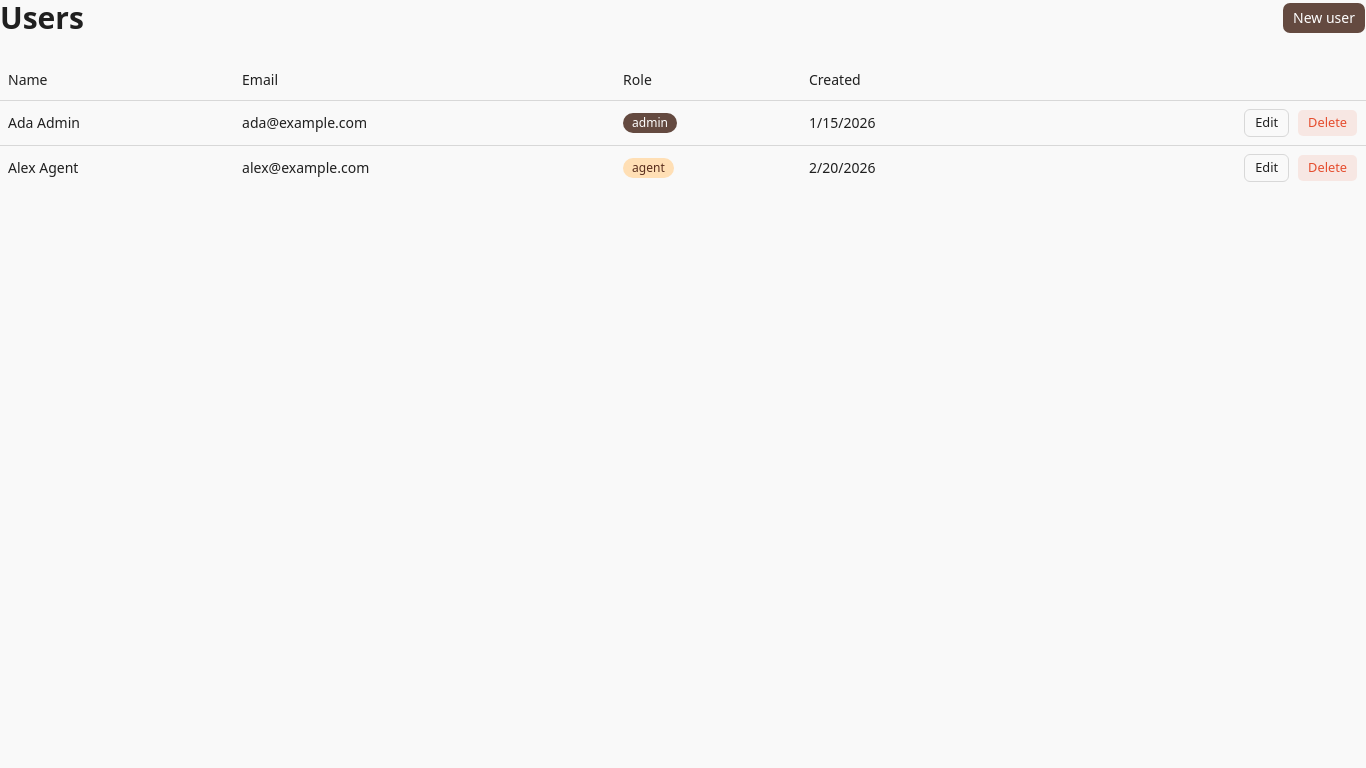
UsersPage › editing a user › prefills the form and patches without a password when left blank
Click the button with aria-label "Edit Alex Agent" at coordinates (1267, 168), box [1244,154,1289,182]
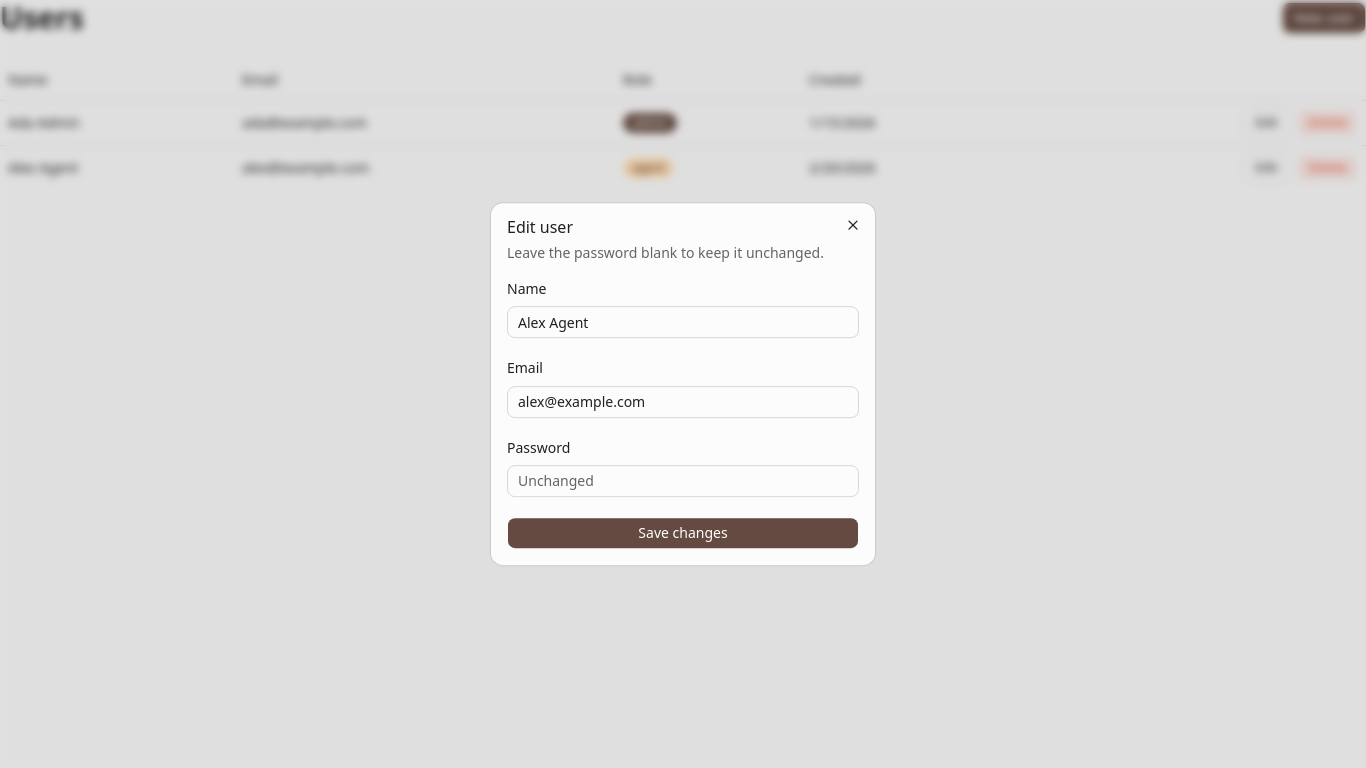
Now the field labelled "Name" holds "Alex Agent"
Now the field labelled "Email" holds "alex@example.com", box [507,386,859,418]
Replace the text in the field labelled "Name" with "Alexander" at coordinates (683, 322), box [507,306,859,338]
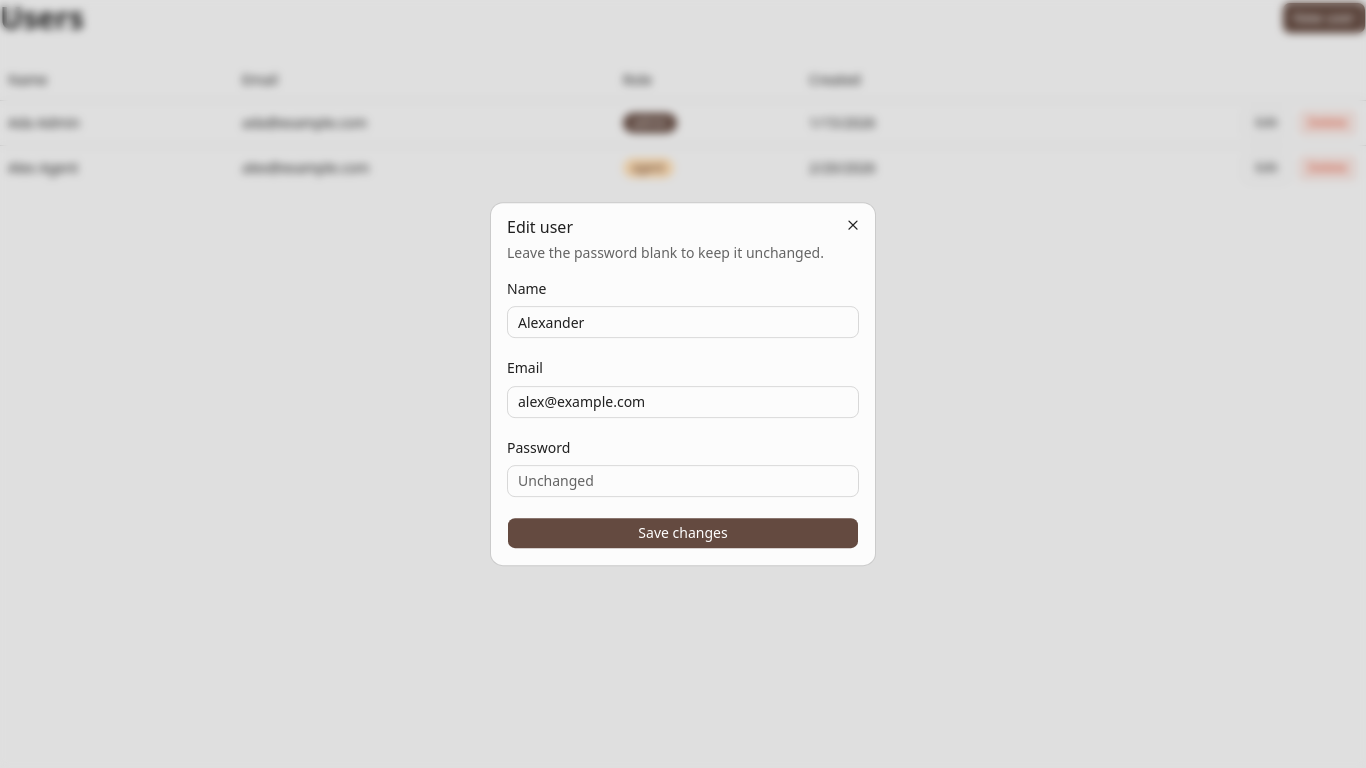
Click the button "Save changes" at coordinates (683, 533), box [507,517,859,549]
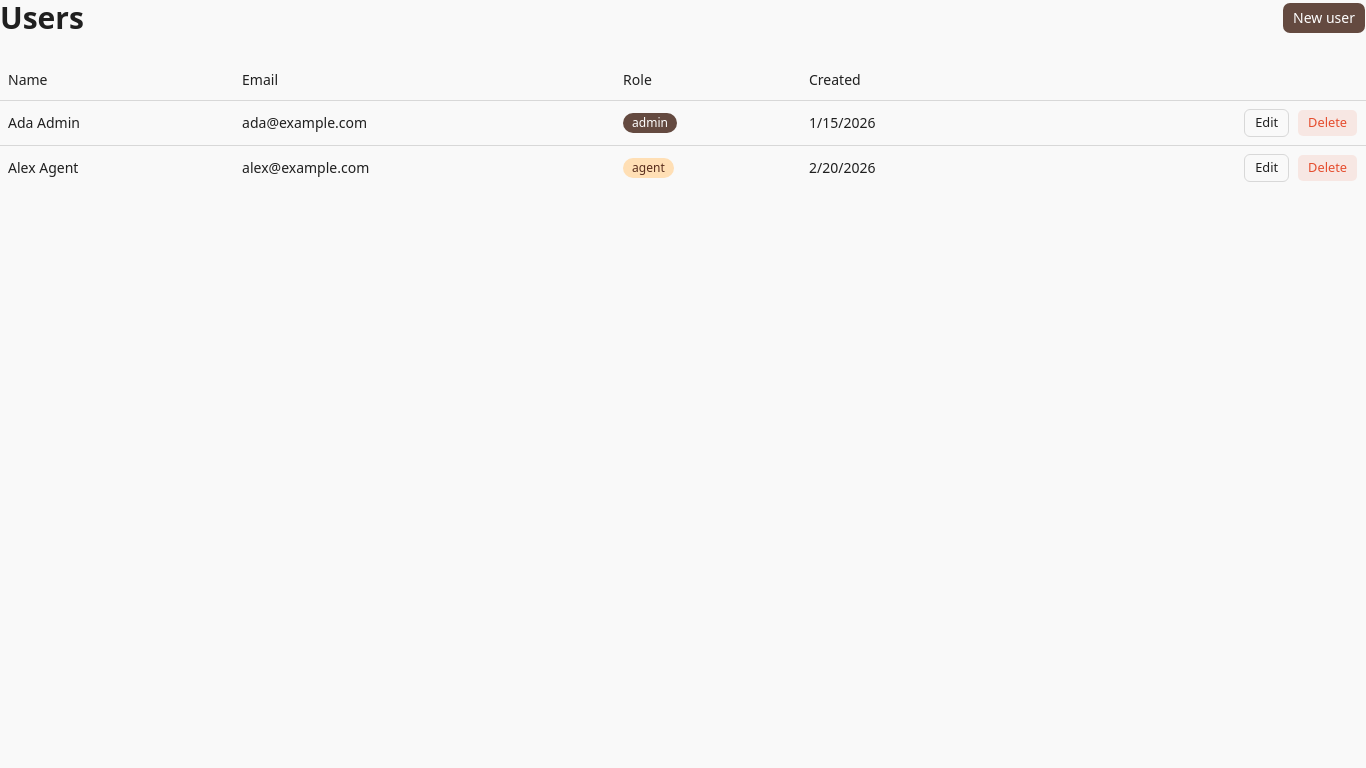
Now the dialog is gone
